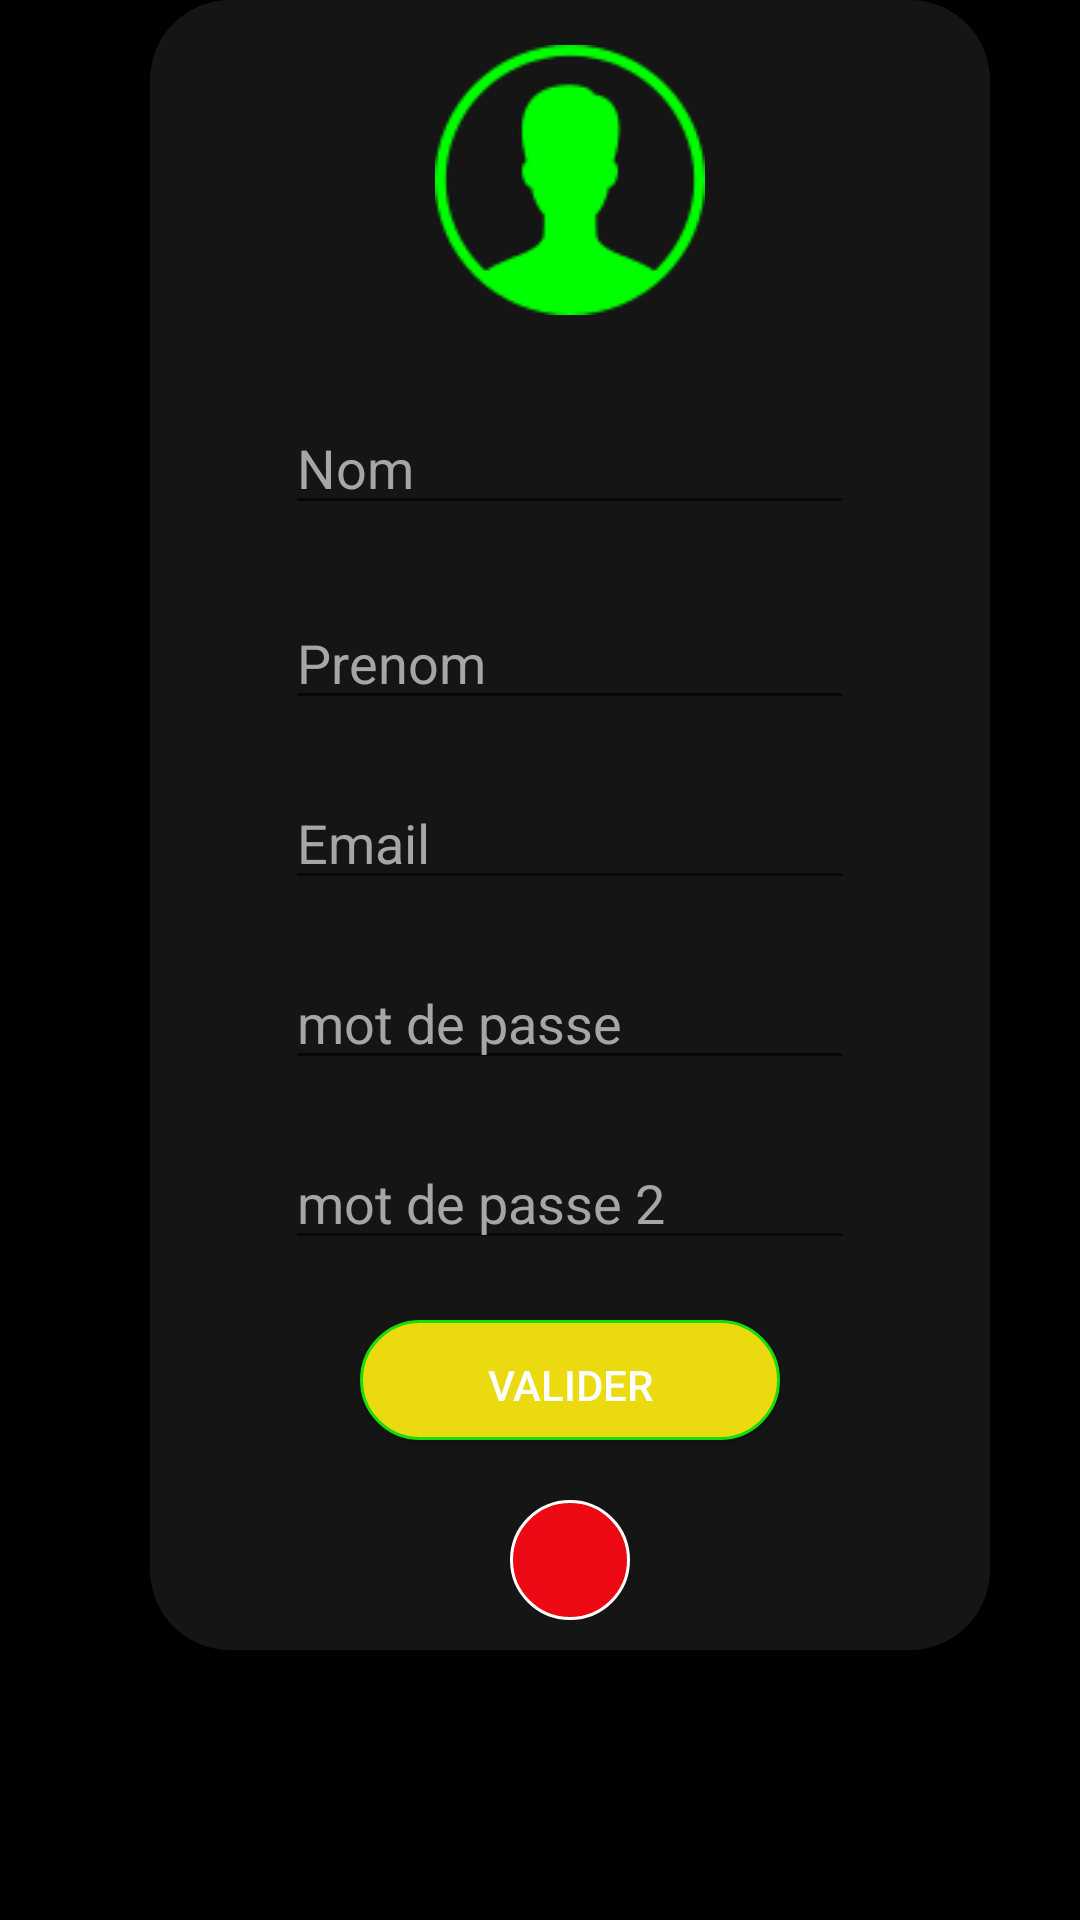

Named icons in this screenshot (1080*1920) and their centers, (x=x, y=y):
male user: (x=570, y=180)
